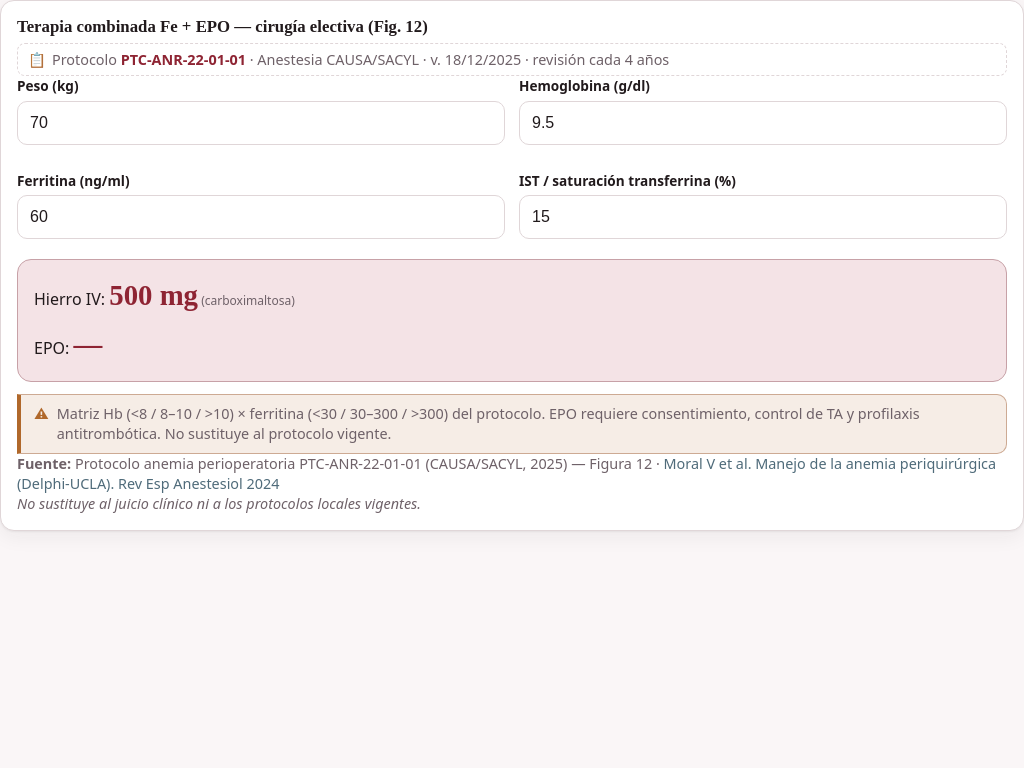
it: Pantallas de ferropenia — regresión Fase 2a › Electiva: IST vacía → sin pauta (antes pautaba la matriz)
Clear the field labelled "IST / saturación transferrina (%)" at (763, 217), box [519, 195, 1007, 239]
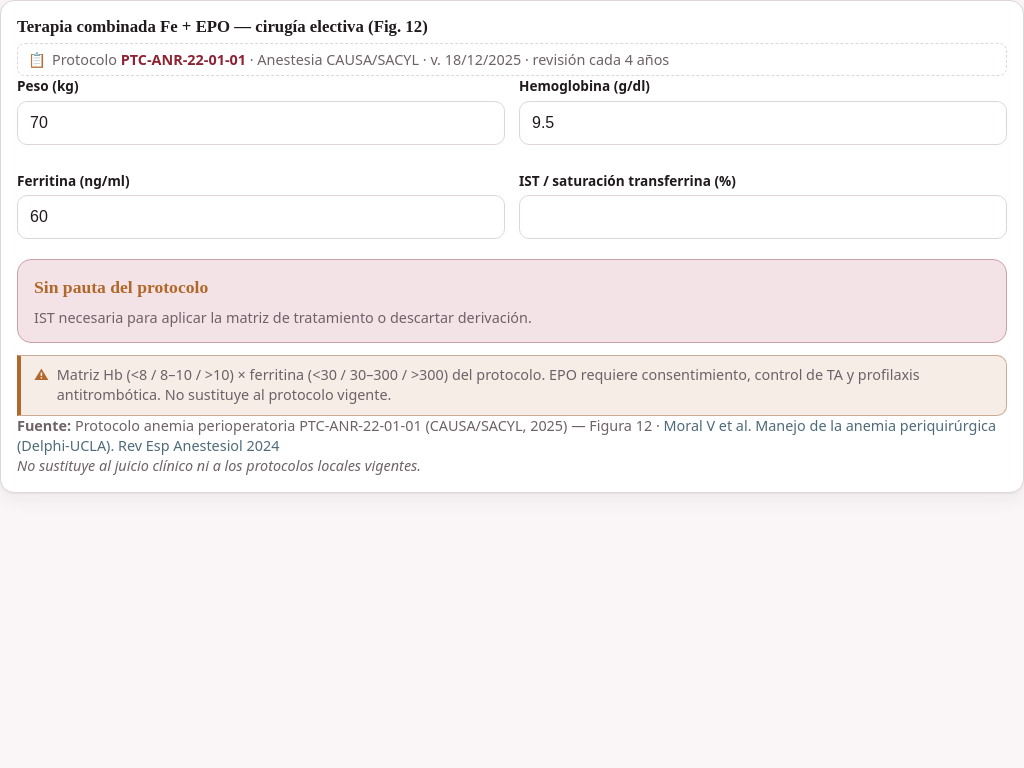
Expected: the text "IST necesaria para aplicar la matriz de tratamiento o descartar derivación" is shown, [34, 308, 532, 327]
Expected: the text "Hierro IV:" is gone
